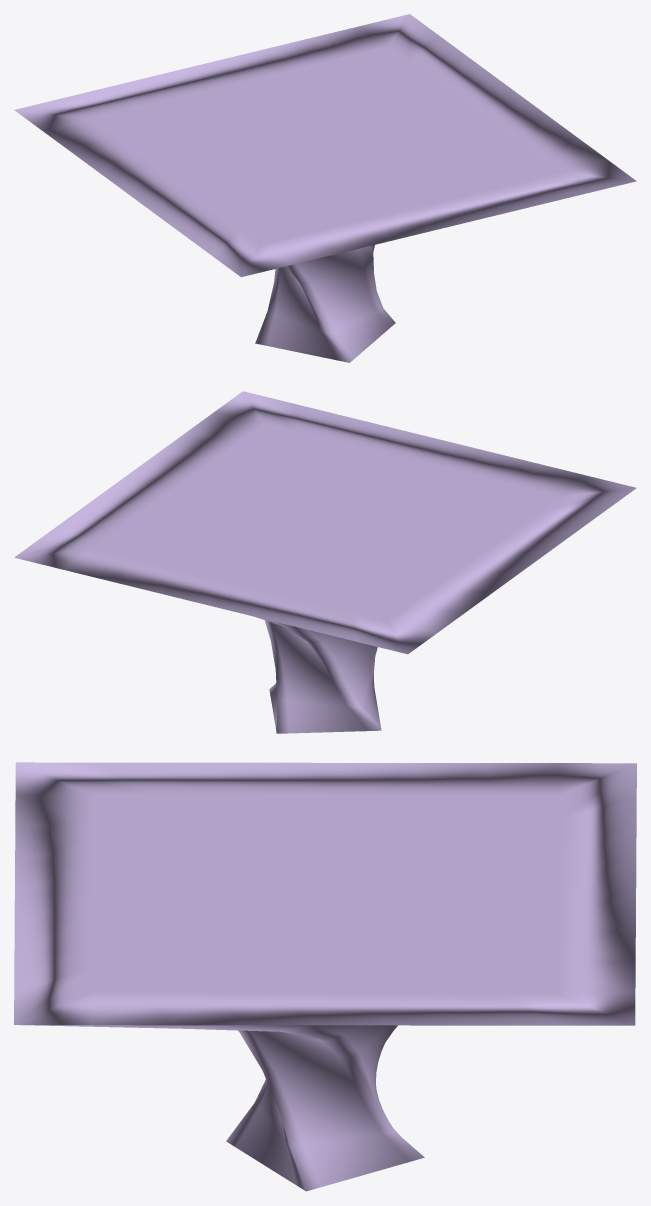
The model's file is Table_03.fbx.
3 renders of one model, top to bottom at view 1: azimuth 30°, elevation 25°; view 2: azimuth 150°, elevation 25°; view 3: azimuth 270°, elevation 25°, orthographic. The views are drawn at different scales.
Visible parts, largest first — view 1: Table3; view 2: Table3; view 3: Table3.
Boxes of the visible parts, bbox=[...] form: Table3: bbox=[14, 14, 636, 362]; Table3: bbox=[14, 391, 636, 733]; Table3: bbox=[14, 762, 636, 1191].
Bounding box in the file's own units: 2.23 × 1.01 × 2.23.
